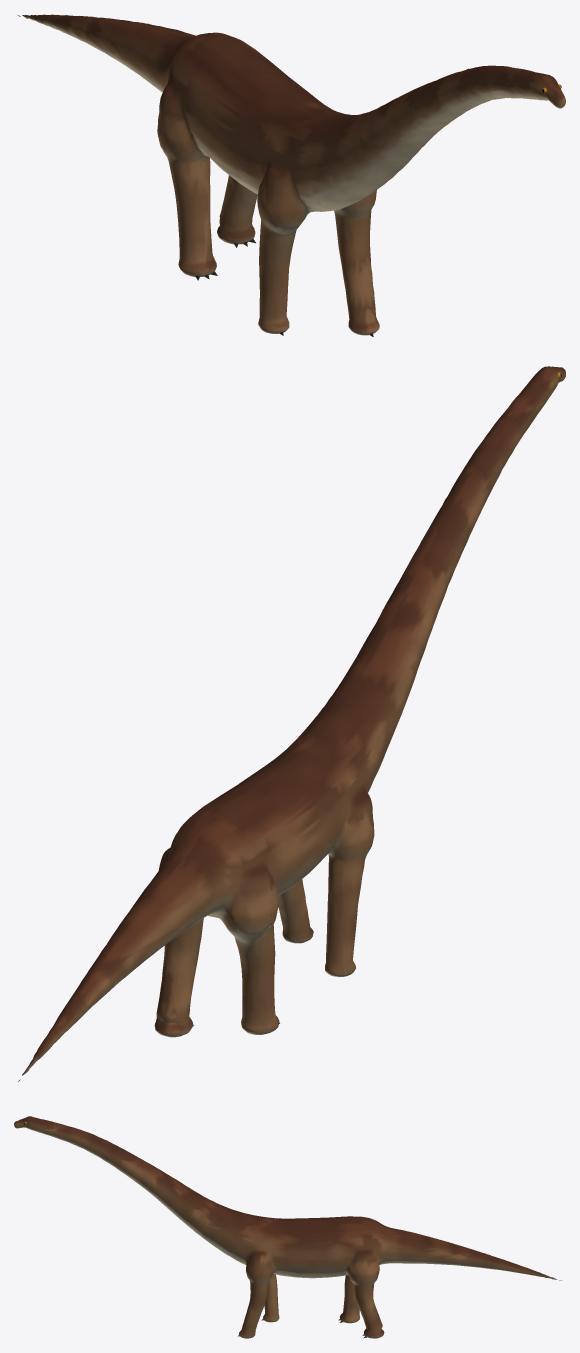
File: Mamenchisaurus.fbx
3 views of the same model, one above another, from view 1: azimuth 30°, elevation 25°; view 2: azimuth 150°, elevation 25°; view 3: azimuth 270°, elevation 25° (orthographic). The views are drawn at different scales.
Parts seen in each view (by area): view 1: Mamenchisaurus; view 2: Mamenchisaurus; view 3: Mamenchisaurus.
Part boxes in pixels (<box>): Mamenchisaurus: <box>18,14,565,336</box>; Mamenchisaurus: <box>18,366,565,1081</box>; Mamenchisaurus: <box>14,1116,561,1338</box>.
Bounding box in the file's own units: 0.7532 × 2.73 × 6.43.
